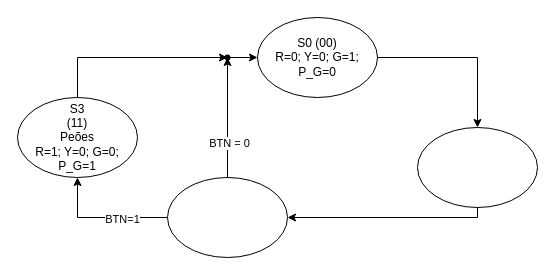
The diagram is 555 pixels wide and 275 high, and some of its shapes have lost their labels. The shapes that lost their labels are listed below. From the top down, each one's centre as x and y in pixels, then its label:
At pixel 477 167: "S1 (01) R=0; Y=1; G=0; P_G=0".
At pixel 227 217: "S2 (10) R=1; Y=0; G=0; P_G=0".
